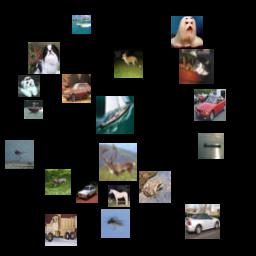airplane: (101, 209, 130, 238)
automobile: (185, 204, 220, 239), (194, 89, 226, 121), (62, 74, 91, 103), (76, 181, 98, 203)
bird: (5, 140, 34, 169)
cat: (179, 49, 214, 84)
deer: (99, 143, 137, 181), (45, 169, 71, 195)
dog: (171, 16, 203, 48), (28, 42, 60, 74), (114, 49, 143, 78), (18, 75, 40, 97)
frog: (139, 171, 171, 203)
ship: (96, 96, 134, 134), (198, 133, 224, 159), (72, 15, 91, 34), (24, 100, 43, 119)
truck: (45, 214, 77, 246)
